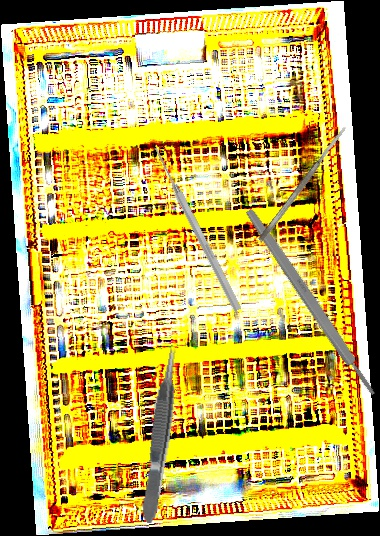Pusher: (150, 145, 244, 313)
Scalpel Handle: (243, 206, 379, 399)
Spatula Surgical: (257, 124, 349, 244)
Tissue Forceps: (135, 345, 186, 525)
